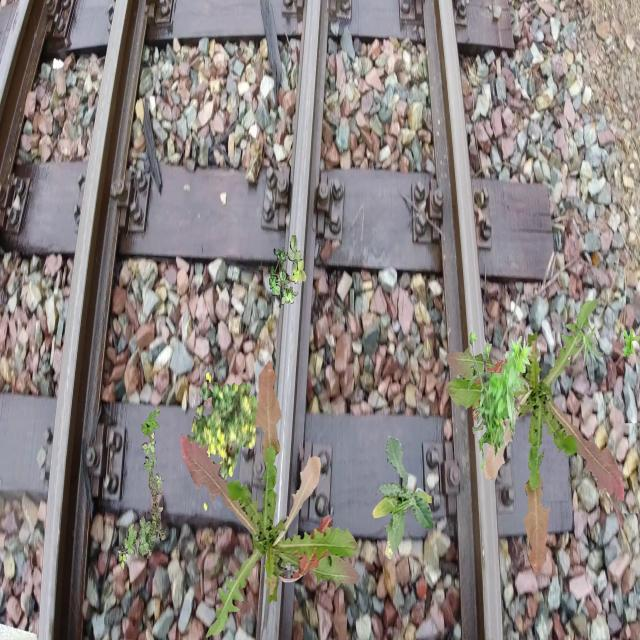Plant: (181, 360, 361, 638), (445, 298, 625, 576), (188, 372, 263, 512), (468, 328, 532, 472), (372, 436, 434, 560), (117, 432, 166, 570), (269, 235, 306, 308), (572, 325, 604, 371), (141, 407, 160, 440), (622, 327, 640, 359)
